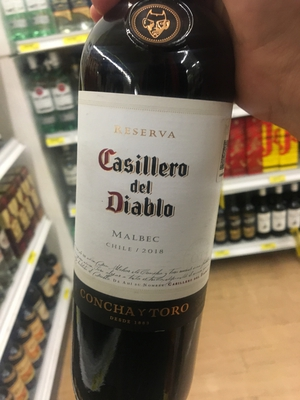casillero del diablo malbec: (65, 1, 252, 398)
